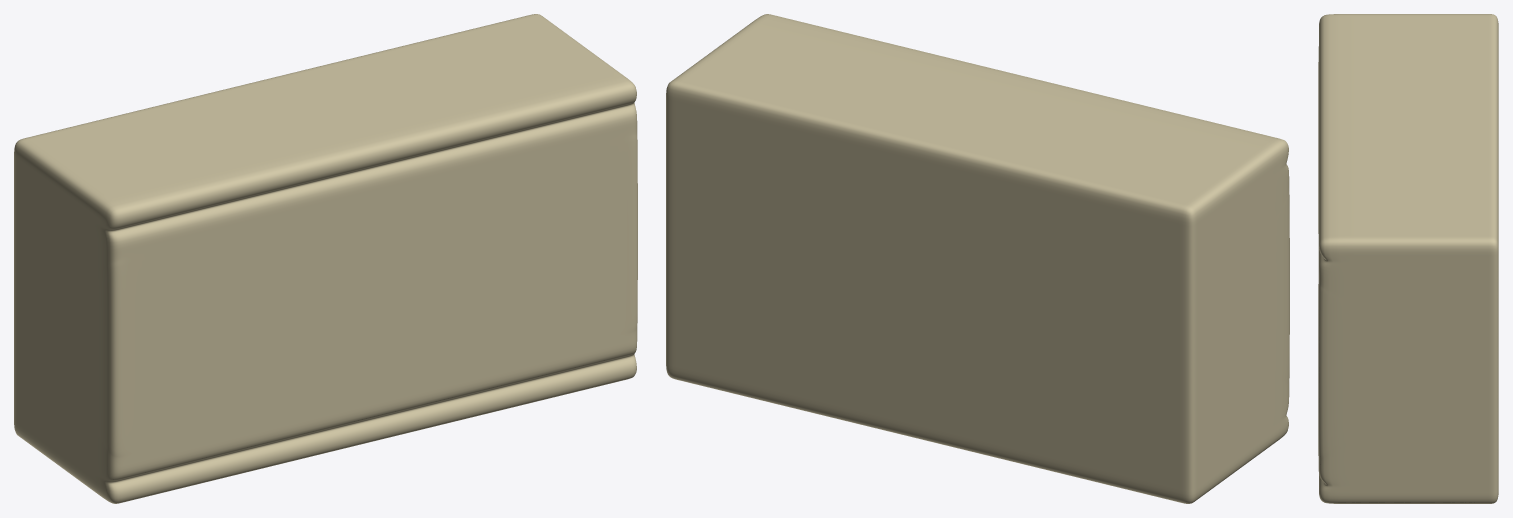
File: Butter.obj
3 views of the same model, side by side, from view 1: azimuth 30°, elevation 25°; view 2: azimuth 150°, elevation 25°; view 3: azimuth 270°, elevation 25° (orthographic). The views are drawn at different scales.
Parts seen in each view (by area): view 1: Butter; view 2: Butter; view 3: Butter.
Part boxes in pixels (<box>): Butter: <box>14,14,637,503</box>; Butter: <box>666,14,1289,503</box>; Butter: <box>1318,14,1498,503</box>.
Bounding box in the file's own units: 0.121 × 0.065 × 0.0401.
